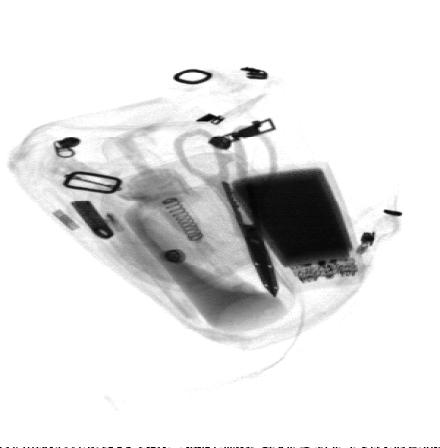Powerbank: (209, 159, 381, 298)
Scissors: (169, 123, 281, 300)
